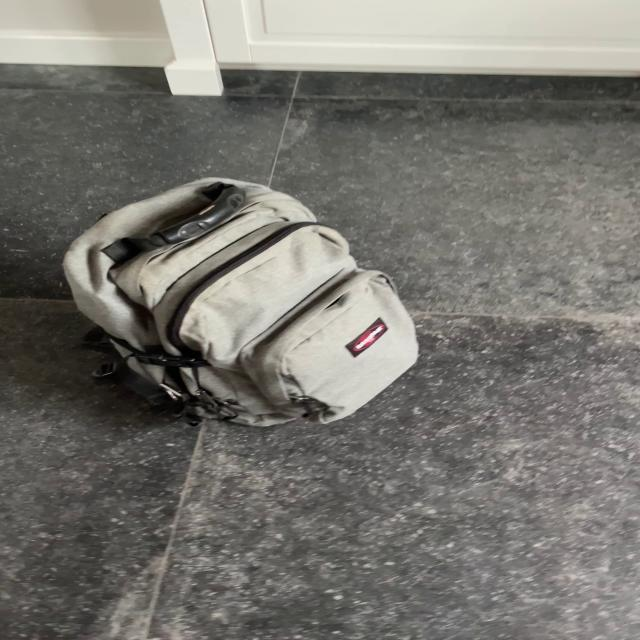backpack: (47, 173, 429, 430)
